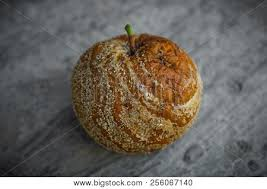damaged_apple: (72, 37, 205, 153)
